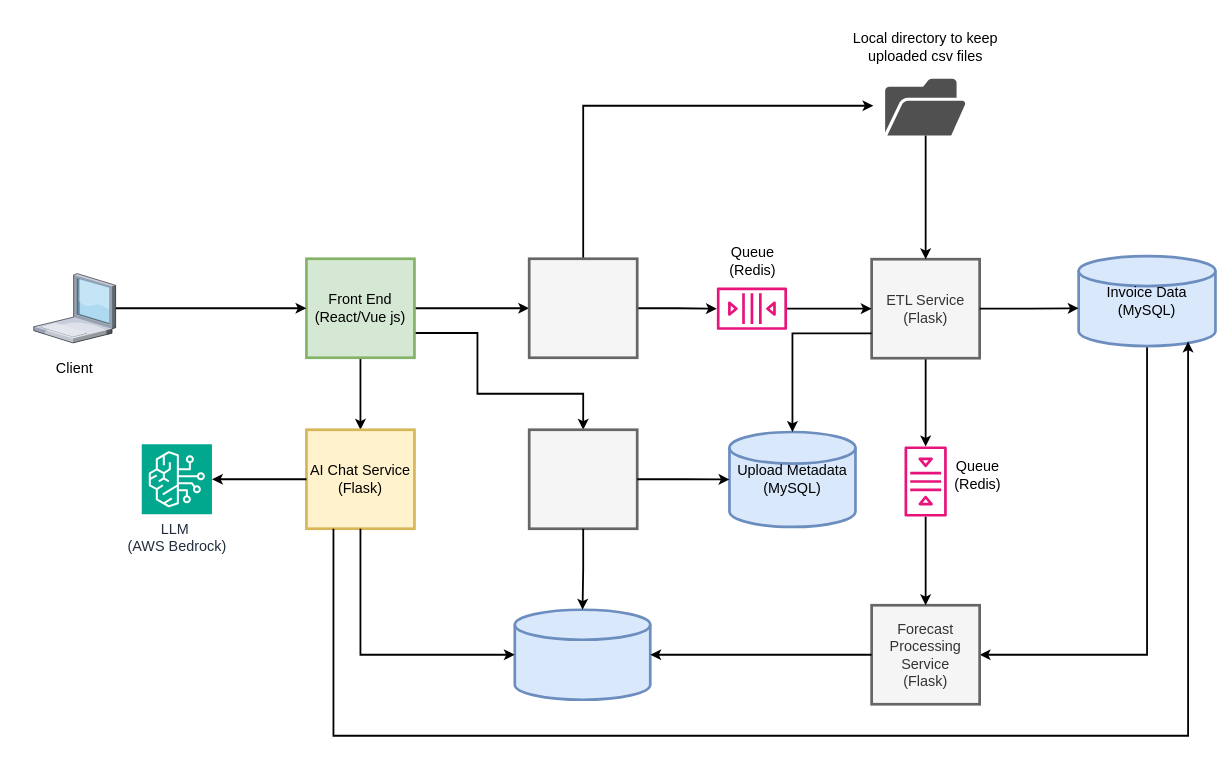
Some shapes in this 1232 by 759 pixel diagram are drawn without their labels. Each missing label, with the centre of its shape:
"Data Query Service (Flask)" belongs at (582,479).
"Forecast Data (MySQL)" belongs at (582,654).
"Upload Service (Flask)" belongs at (582,308).
